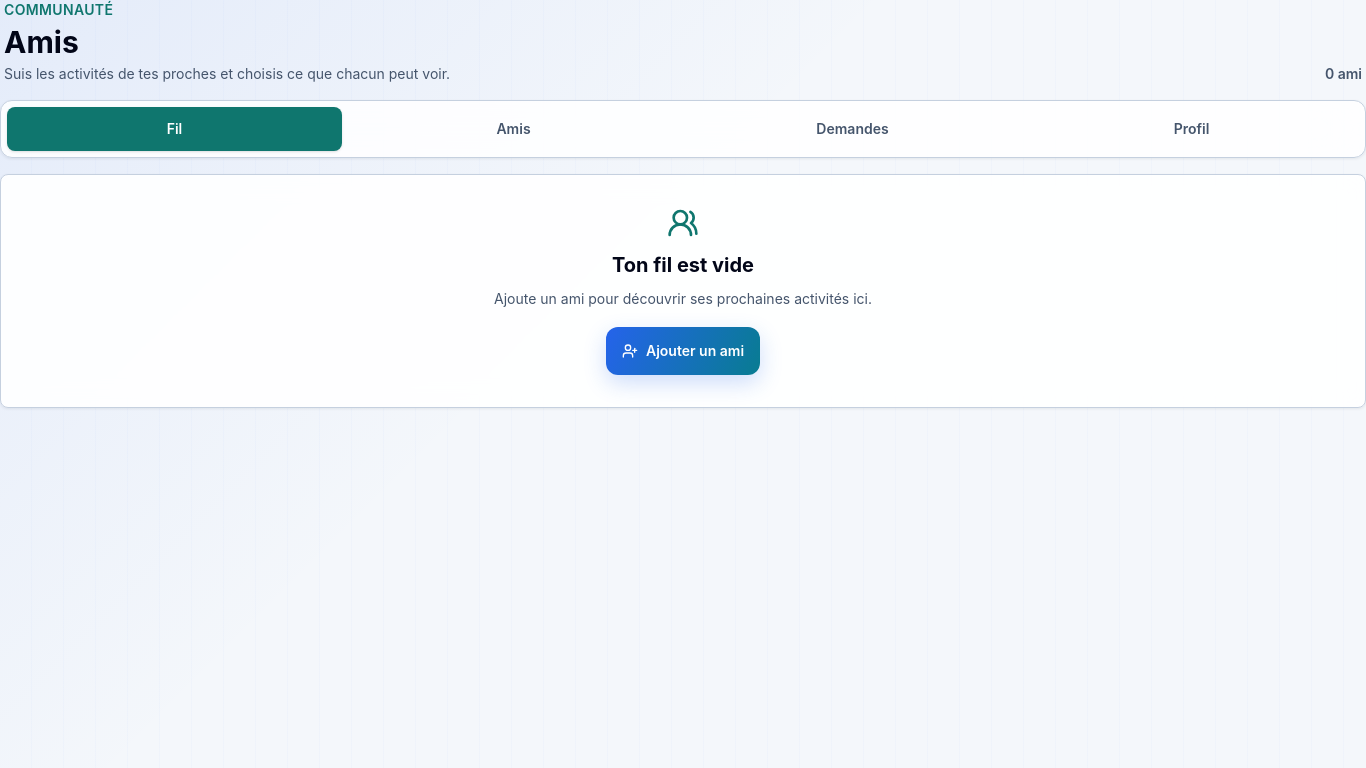
Test case: statut de l’identifiant public › copie l’identifiant depuis l’icône et utilise un toast temporaire unique
Click the button with aria-label "Mon profil social".
click(1192, 129)  # box [1024, 107, 1359, 151]
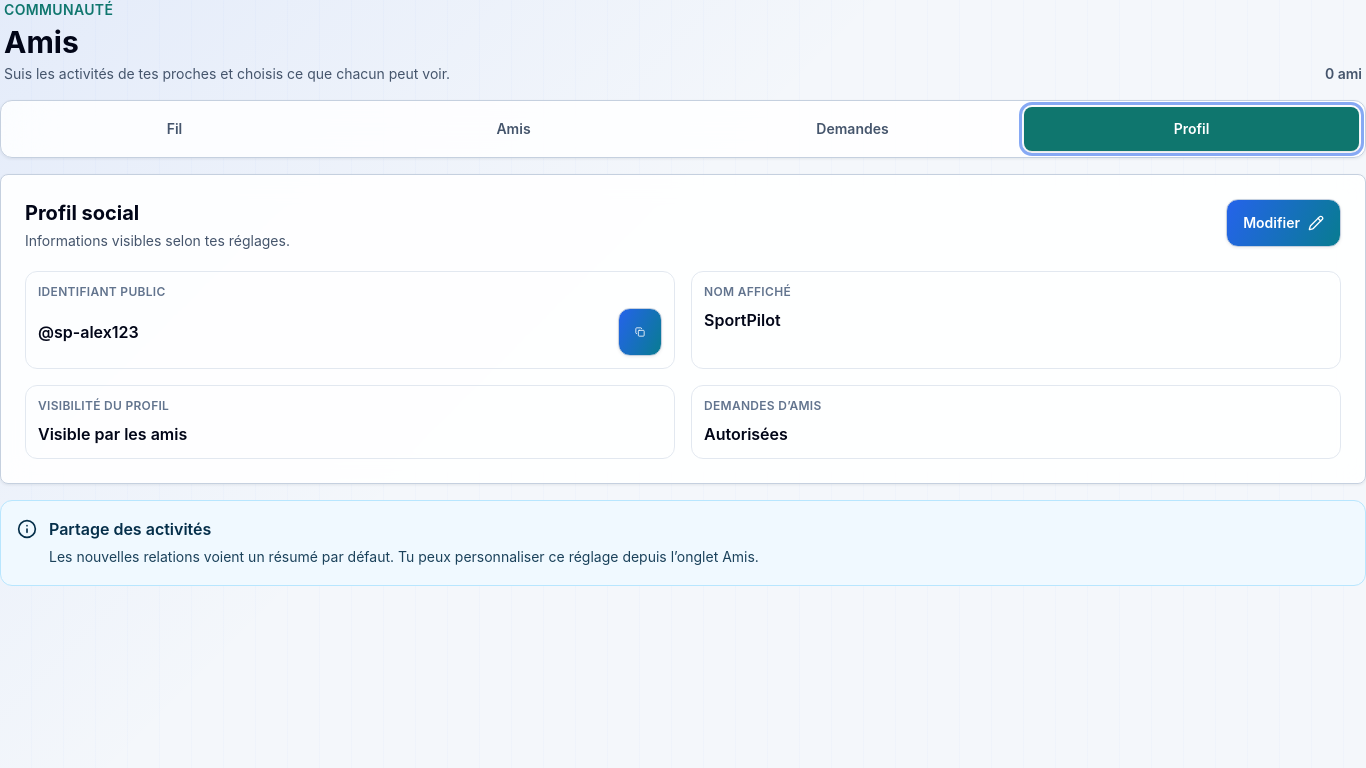
Click the button with aria-label "Modifier le profil public".
click(1284, 223)  # box [1226, 199, 1341, 247]
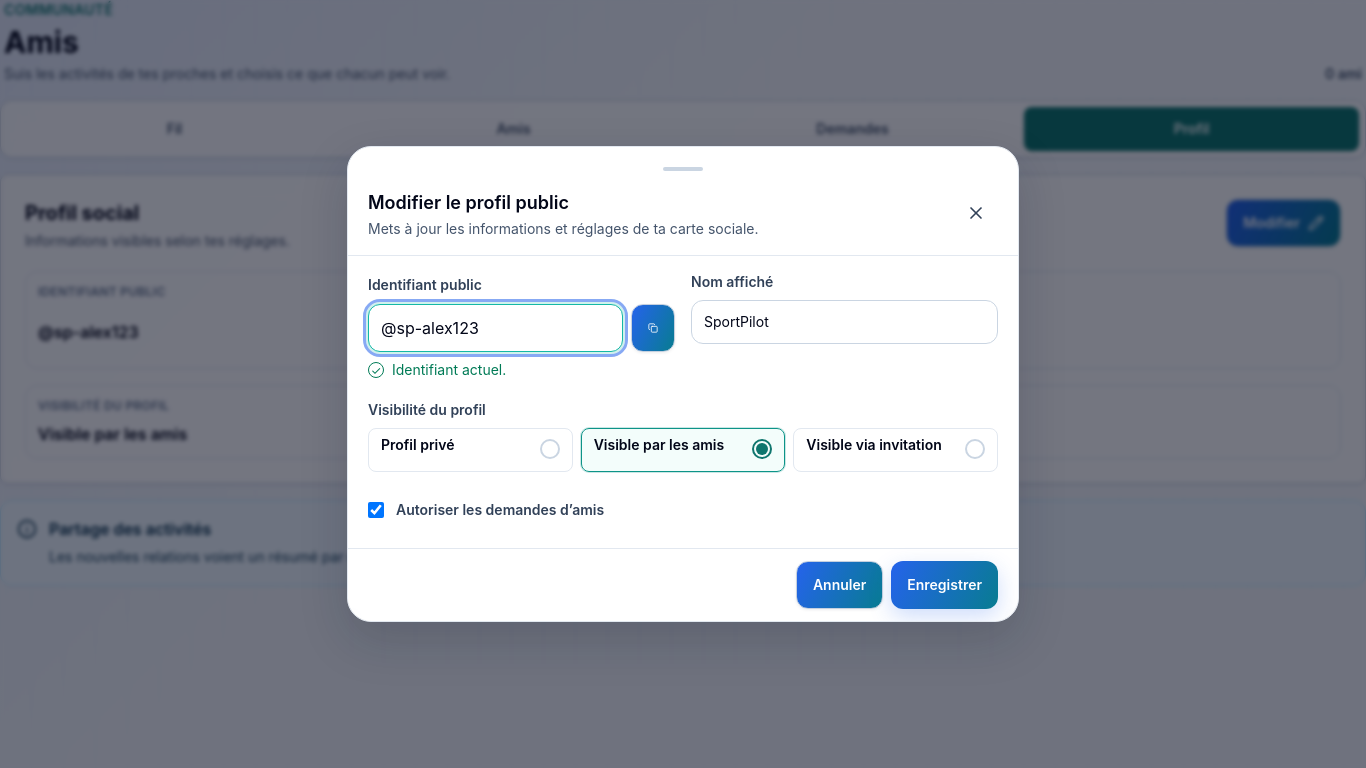
Click the button named "Copier l’identifiant public".
click(653, 328)  # box [631, 304, 675, 352]
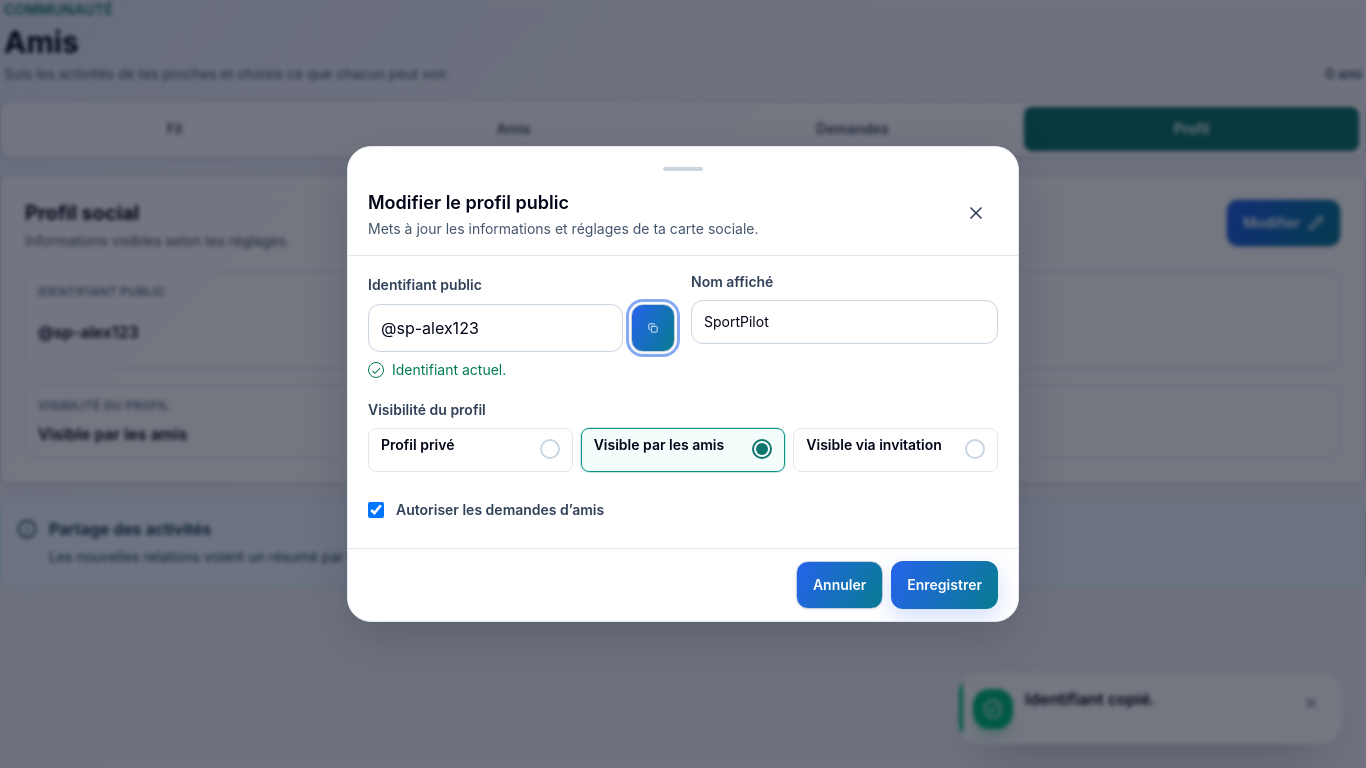
expect the text "Identifiant copié." is shown once: met, box [1025, 689, 1156, 709]
